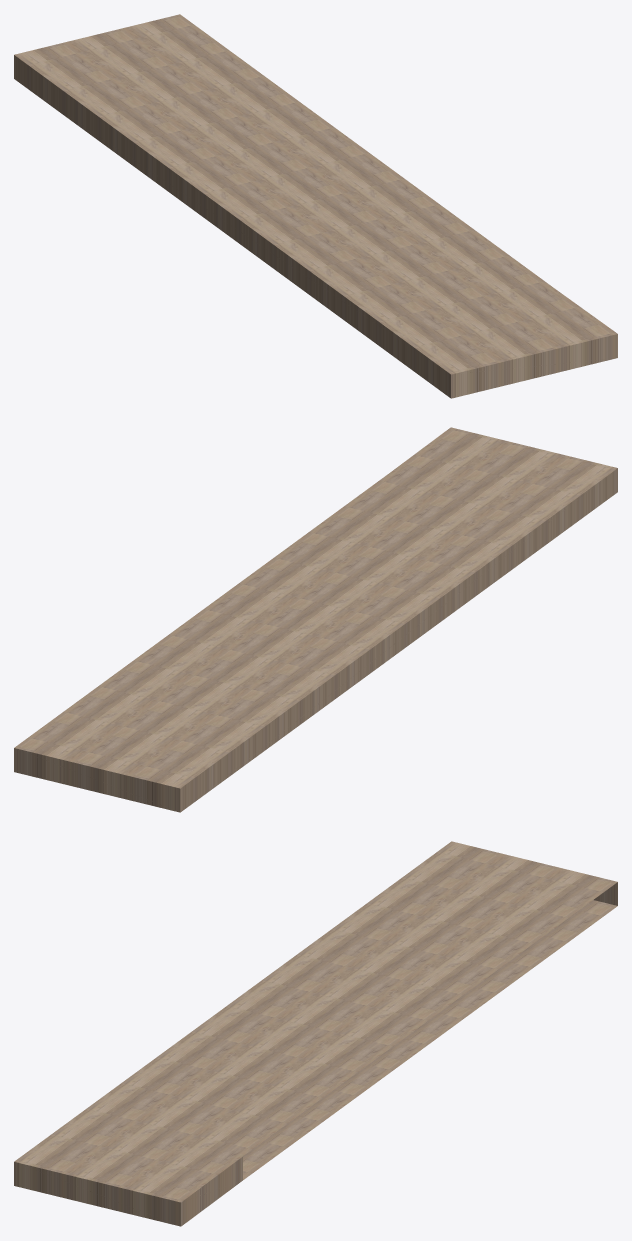
Rendered from Floor_RivergroveValorOak_.glb.
The picture shows the model from 3 angles, top to bottom: view 1: azimuth 30°, elevation 25°; view 2: azimuth 150°, elevation 25°; view 3: azimuth 330°, elevation 25°; orthographic projection.
Visible parts, largest first — view 1: Floor_Rivergrove Valor Oak_; view 2: Floor_Rivergrove Valor Oak_; view 3: Floor_Rivergrove Valor Oak_.
Boxes of the visible parts, left/top/right/bottom form: Floor_Rivergrove Valor Oak_: left=14, top=14, right=617, bottom=398; Floor_Rivergrove Valor Oak_: left=14, top=427, right=617, bottom=812; Floor_Rivergrove Valor Oak_: left=14, top=841, right=617, bottom=1226.
Bounding box in the file's own units: 4.61 × 0.6352 × 20.9.
1 material, 1 textured.
